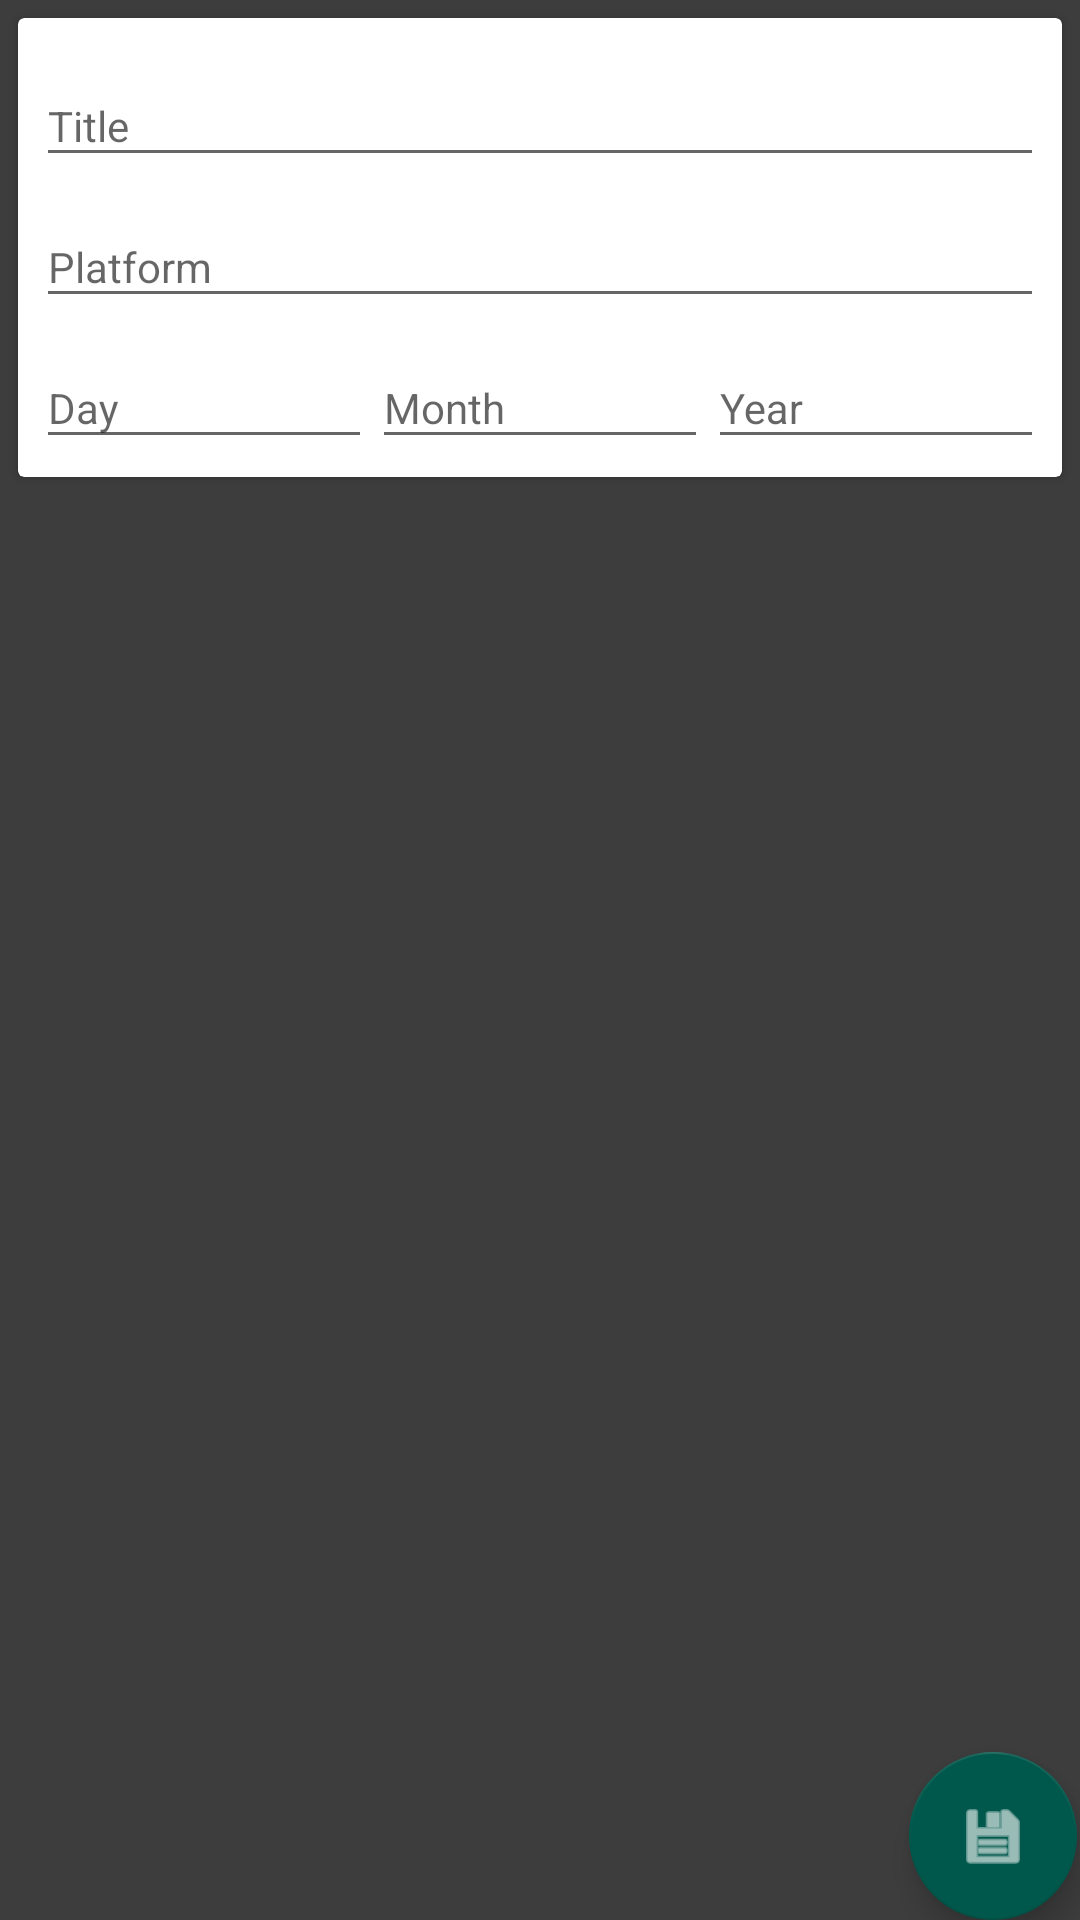

Screen size 1080px×1920px. Icon name, then its box in pixels as Rect(x1, y1, x2, y2):
save: Rect(909, 1752, 1077, 1920)
